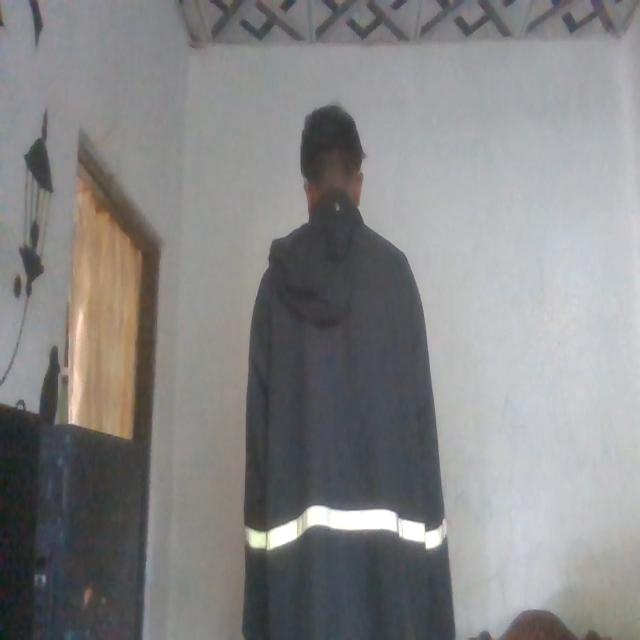Jacket_Wearer: (242, 208, 443, 640)
Person: (238, 100, 454, 640)
